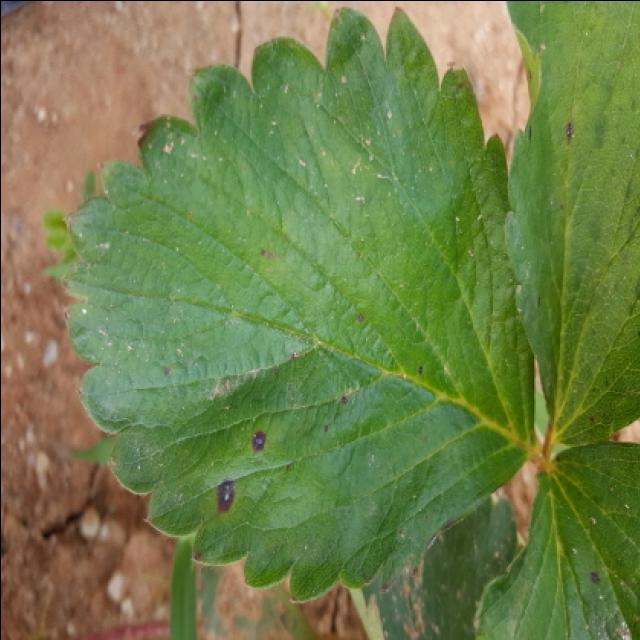Leaf Spot: (58, 4, 536, 603), (503, 2, 640, 444), (472, 440, 640, 640)
